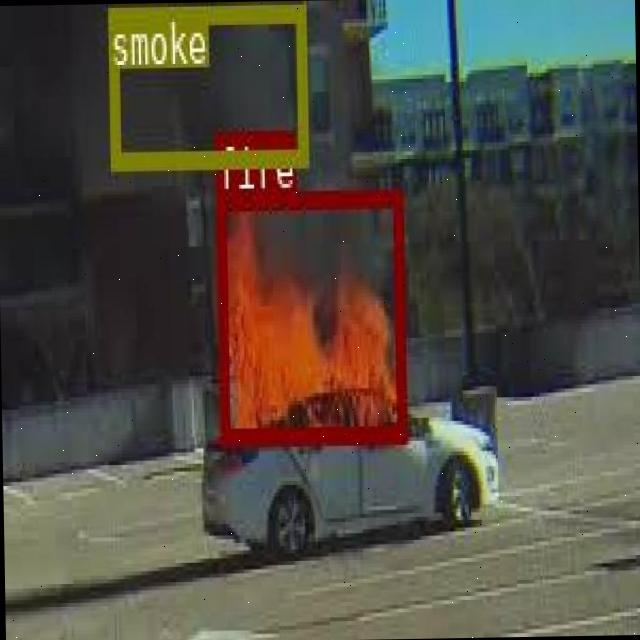fire: (214, 186, 403, 440)
smoke: (107, 3, 306, 166)
